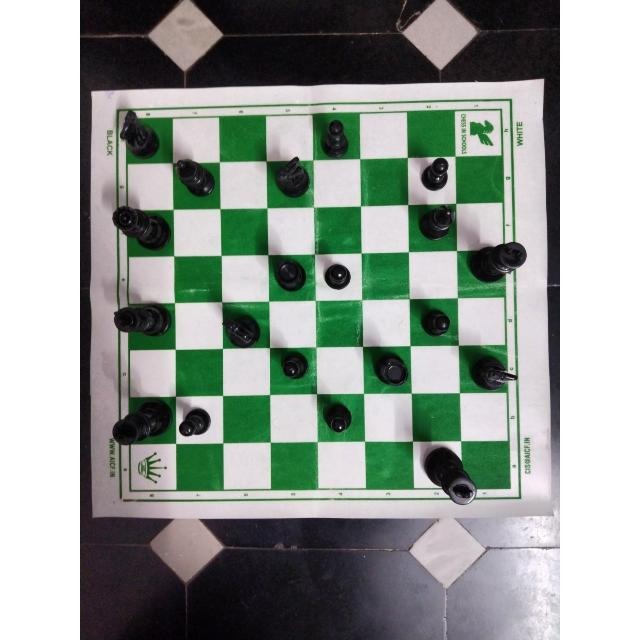black-bishop: (169, 154, 220, 198), (417, 206, 461, 246)
black-king: (421, 444, 479, 508), (112, 399, 176, 447), (463, 242, 528, 286), (111, 302, 175, 341)
black-knight: (116, 107, 165, 163), (468, 352, 520, 392), (272, 157, 314, 201), (220, 314, 264, 350)
black-pawn: (413, 157, 454, 195), (417, 305, 453, 343), (178, 407, 217, 442), (324, 398, 358, 435), (321, 118, 350, 161), (280, 347, 312, 385), (323, 263, 353, 291)
black-queen: (109, 203, 174, 255)
black-rook: (269, 255, 308, 294), (373, 352, 411, 386)
